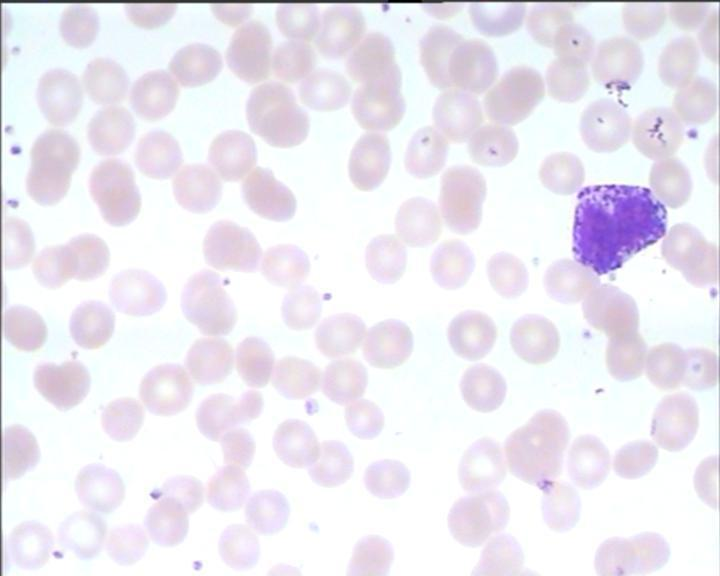baso: (566, 178, 673, 280)
